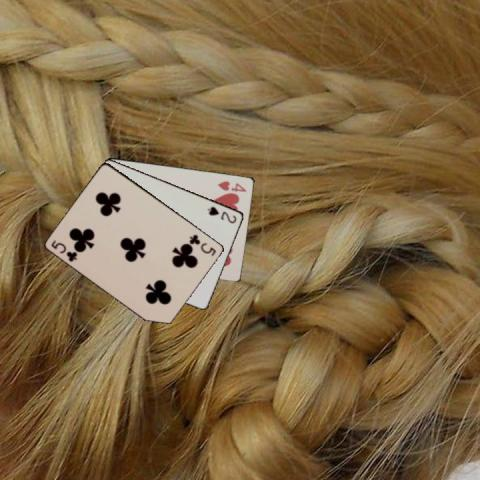2s: (205, 203, 238, 225)
4h: (215, 178, 248, 193)
5c: (48, 237, 79, 263), (187, 232, 217, 258)
